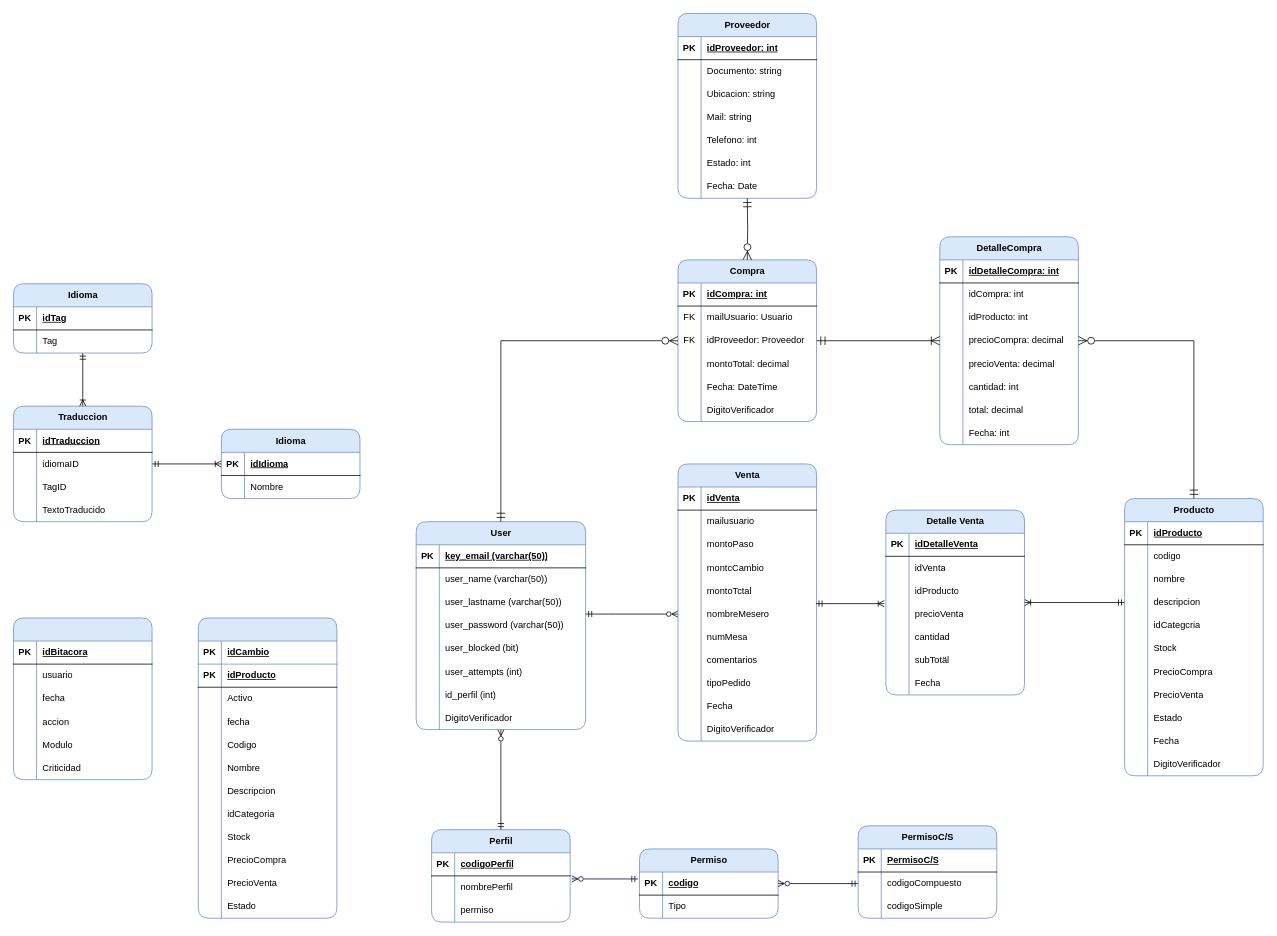
The diagram is 1277 pixels wide and 936 high, and some of its shapes have lost their labels. The shapes that lost their labels are listed below. From the top down, each one's box as (x1, y1, x2, y2) in pixels, then its label:
(13, 617, 152, 780): Bitacora Evento
(198, 617, 337, 918): Bitacora Cambio
